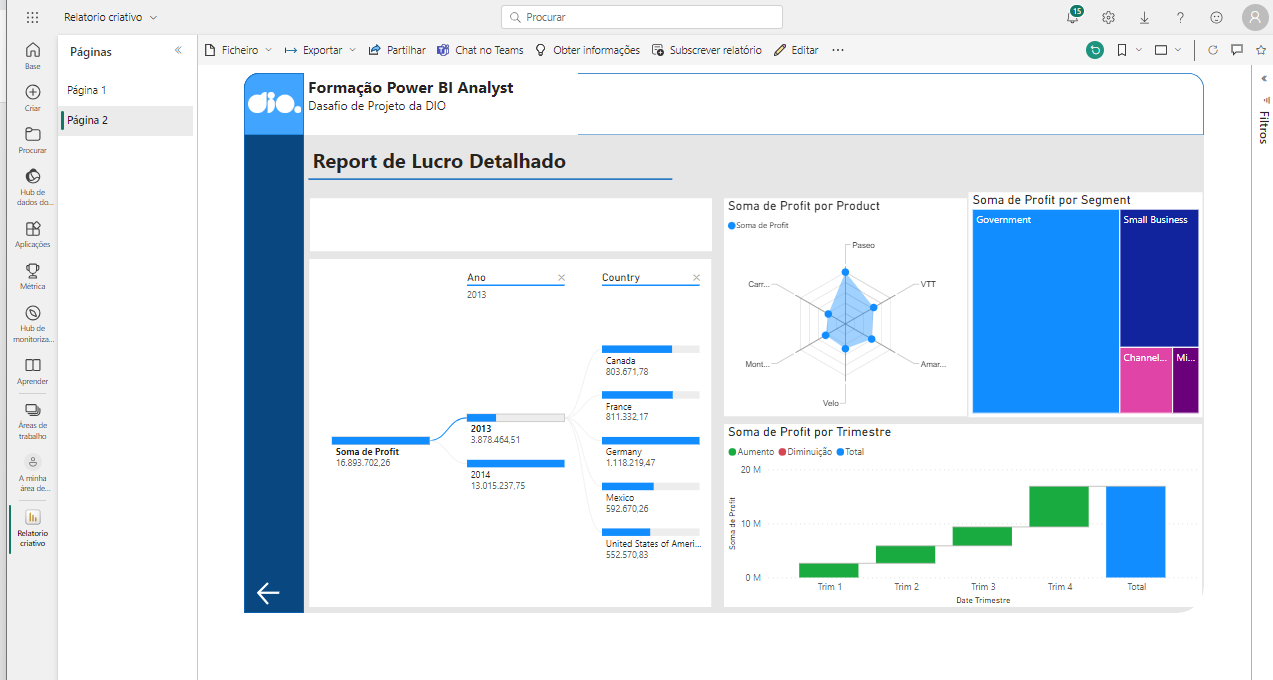

Layout of this report page (visuals, bound fields, positions):
{"tool":"powerbi","page":{"name":"Página 2","canvas":[1280,720],"ordinal":1},"visuals":[{"type":"shape","box":[0,0,1280,720],"z":0},{"type":"shape","box":[86.3,125.3,484.8,33],"z":0,"group":"g1"},{"type":"textbox","box":[86.3,93.4,366.1,47.2],"z":1000,"group":"g1"},{"type":"shape","box":[0,0,80,720],"z":2000},{"type":"shape","box":[0,0,80,83.3],"z":3000},{"type":"image","title":"Logo_dio","box":[0,0,80,80],"z":4000},{"type":"shape","box":[110,0,1170,83.3],"z":6000},{"type":"textbox","box":[80,0,365,83.3],"z":7000},{"type":"group","id":"g1","title":"Sales Report","box":[86.3,93.4,484.8,64.9],"z":8000},{"type":"actionButton","box":[12.5,673.8,55,40],"z":9000},{"type":"waterfallChart","fields":{"Category":["financials.Date.Variation.Hierarquia de datas.Trimestre"],"Y":["Sum(financials.Profit)"]},"box":[640,468.3,636.7,245],"z":10000},{"type":"treemap","fields":{"Group":["financials.Segment"],"Values":["Sum(financials.Profit)"]},"box":[966.2,158.8,311.2,300],"z":11000},{"type":"decompositionTreeVisual","fields":{"Analyze":["Sum(financials.Profit)"],"ExplainBy":["financials.Date.Variation.Hierarquia de datas.Ano","financials.Country"]},"box":[86.7,248.3,536.7,465],"z":12000},{"type":"ChicletSlicer1448559807354","fields":{"Category":["financials.Date.Variation.Hierarquia de datas.Ano"]},"box":[88.3,166.7,535,71.7],"z":13000},{"type":"RadarChart1446119667547","fields":{"Category":["financials.Product"],"Y":["Sum(financials.Profit)"]},"box":[640,166.7,323.3,291.7],"z":14000}]}

Visuals, with their boxes on the page's 1280x720 design canvas (x1, y1, x2, y2). These are canvas units, not pixel positions in the 1273x680 screenshot, which may show the page scaled, cropped or inside an application window:
shape: BBox(0, 0, 1280, 720)
shape: BBox(86, 125, 571, 158)
textbox: BBox(86, 93, 452, 141)
shape: BBox(0, 0, 80, 720)
shape: BBox(0, 0, 80, 83)
"Logo_dio" image: BBox(0, 0, 80, 80)
shape: BBox(110, 0, 1280, 83)
textbox: BBox(80, 0, 445, 83)
"Sales Report" group: BBox(86, 93, 571, 158)
actionButton: BBox(12, 674, 68, 714)
waterfallChart - financials.Date.Variation.Hierarquia de datas.Trimestre x Sum(financials.Profit): BBox(640, 468, 1277, 713)
treemap - financials.Segment x Sum(financials.Profit): BBox(966, 159, 1277, 459)
decompositionTreeVisual - Sum(financials.Profit) x financials.Date.Variation.Hierarquia de datas.Ano: BBox(87, 248, 623, 713)
ChicletSlicer1448559807354 - financials.Date.Variation.Hierarquia de datas.Ano: BBox(88, 167, 623, 238)
RadarChart1446119667547 - financials.Product x Sum(financials.Profit): BBox(640, 167, 963, 458)
